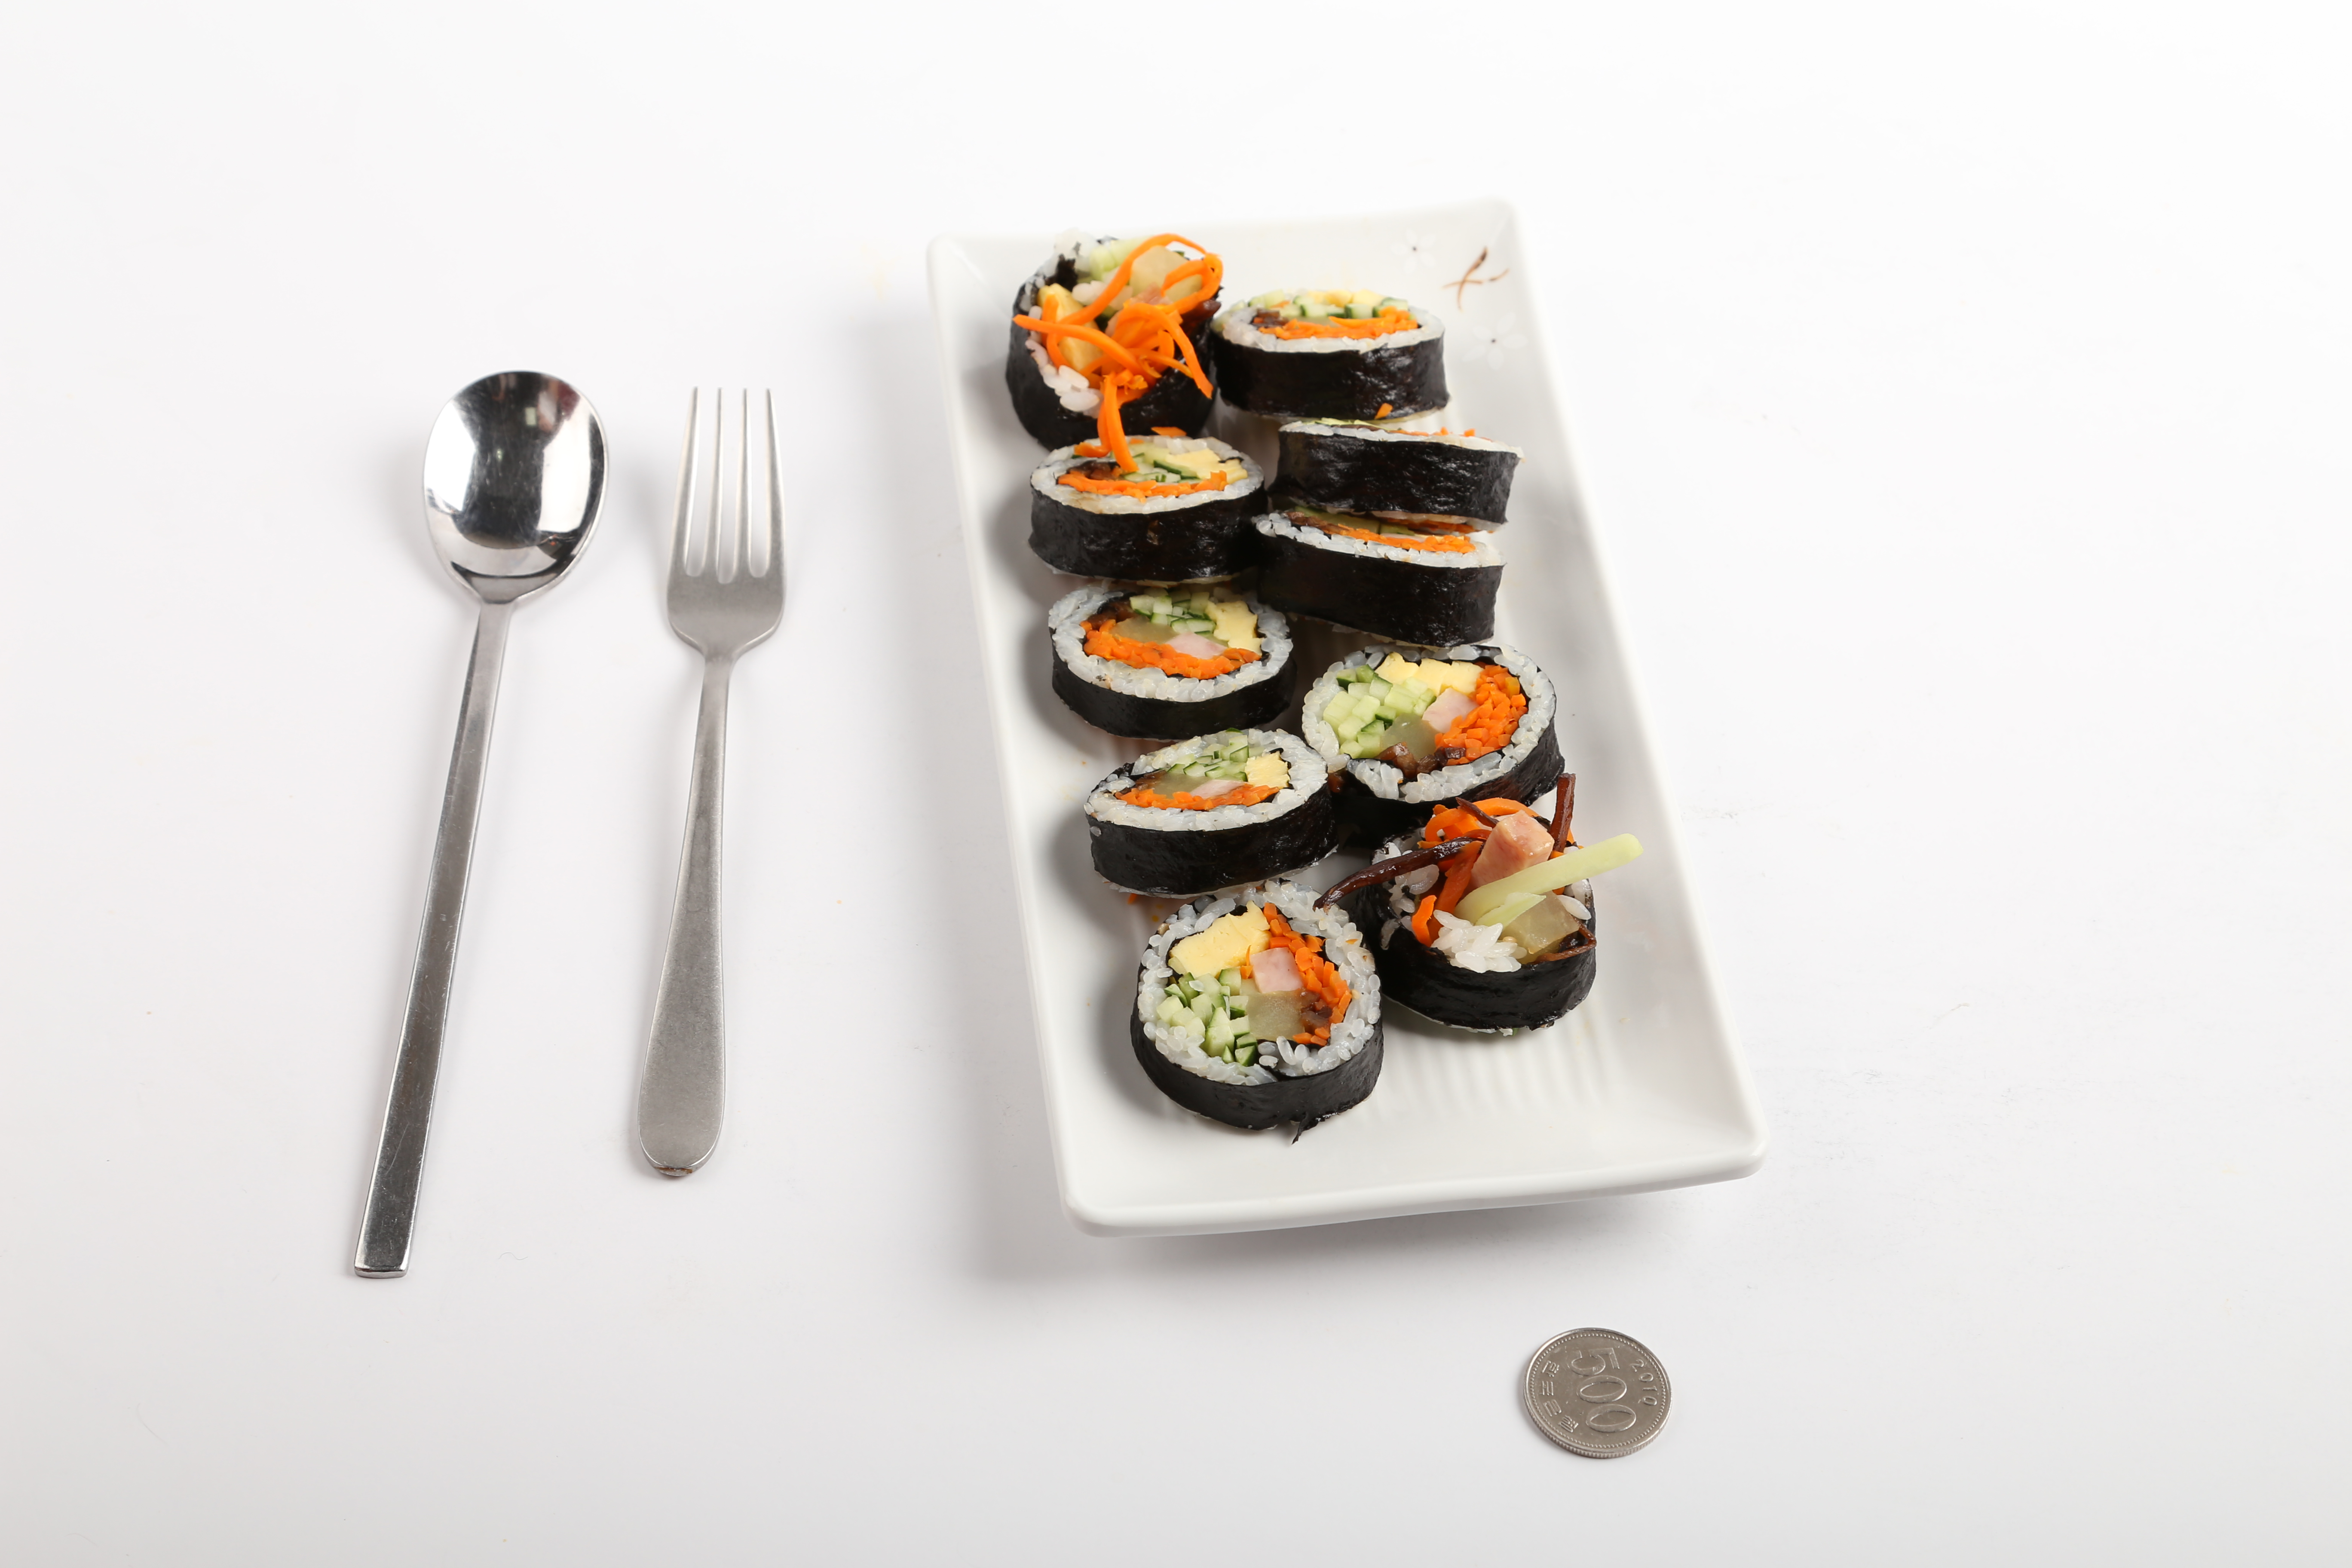dish: (927, 196, 1797, 1242)
ref_coin: (1514, 1318, 1676, 1463)
ref_fork: (656, 380, 794, 702)
ref_spoon: (411, 360, 614, 637)
김밥: (997, 226, 1598, 1127)
